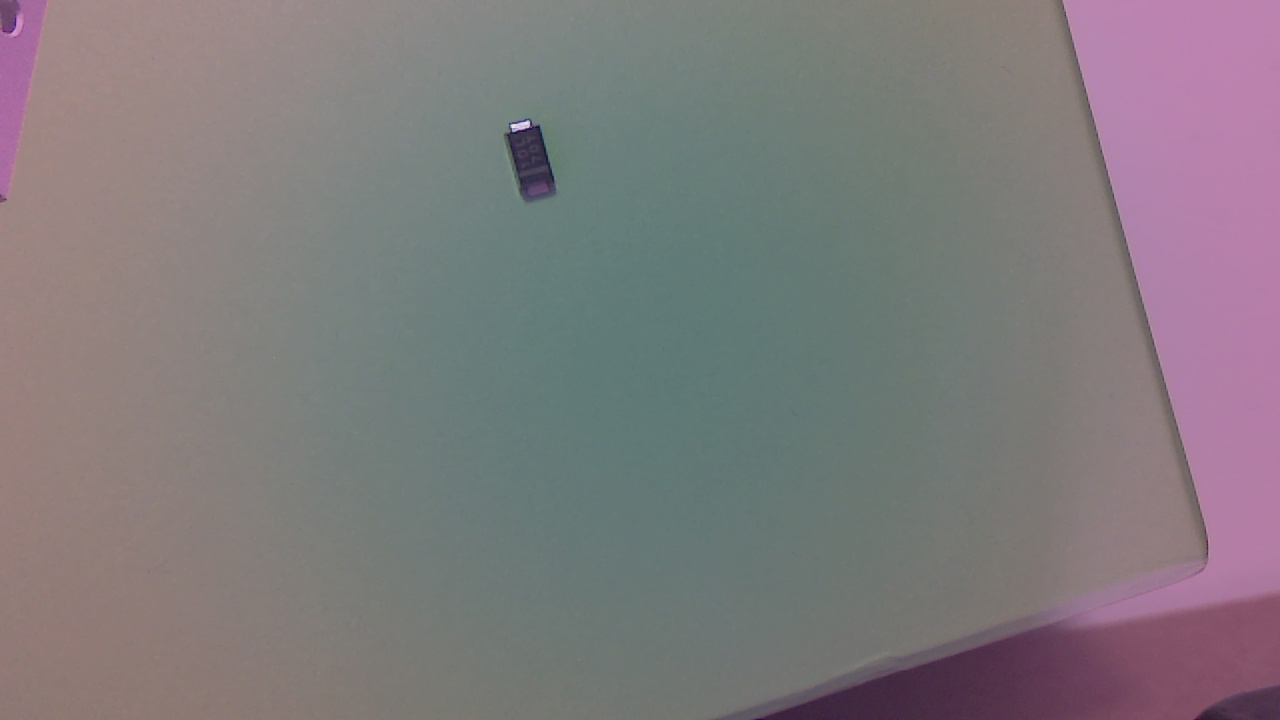Diode: (508, 123, 565, 207)
